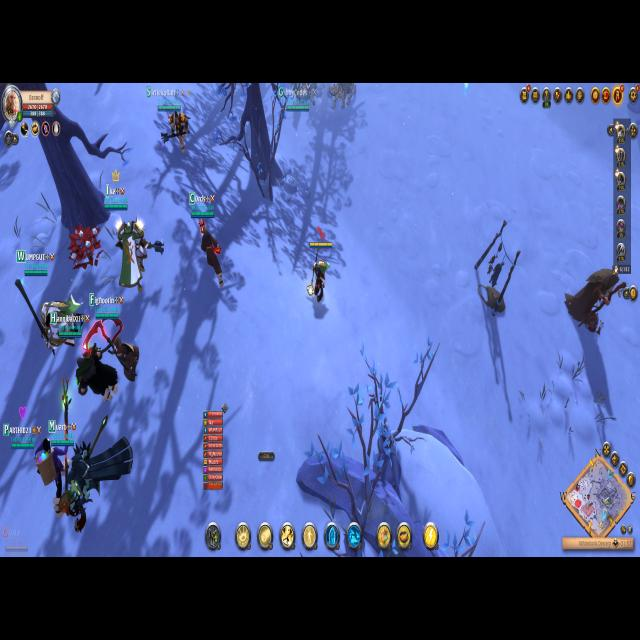hide: (65, 216, 104, 281)
ore: (564, 262, 622, 332)
player: (302, 225, 336, 304)
red: (48, 418, 138, 524), (103, 164, 165, 298), (48, 309, 122, 405), (13, 248, 82, 348), (2, 403, 72, 495), (184, 188, 233, 296), (89, 294, 145, 381), (144, 85, 198, 159), (276, 82, 318, 124), (0, 518, 30, 559)
